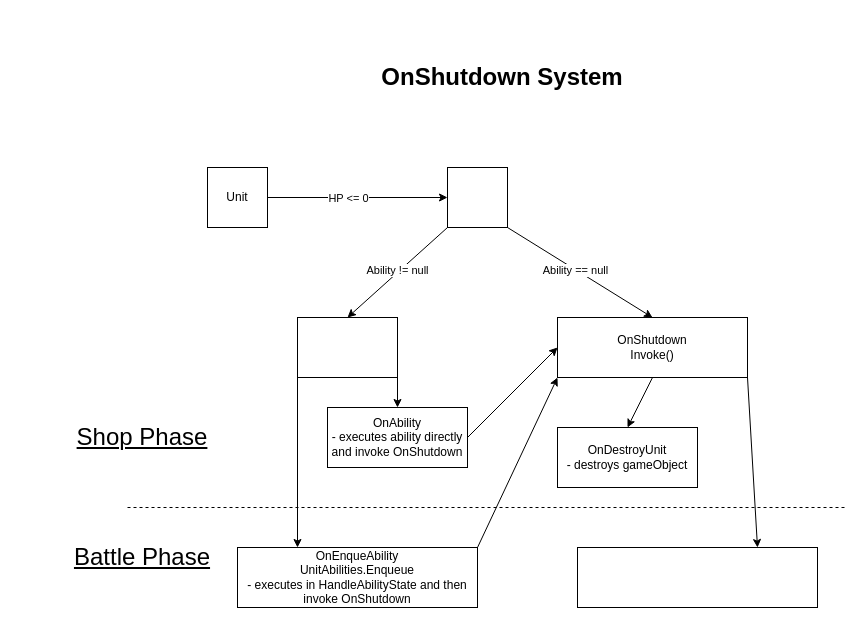
Some shapes in this 866 by 634 pixel diagram are drawn without their labels. The centre of each missing label's shape, as x and y in pixels:
"OnEnqueueShutdown ShutdownUnits.Enqueue - hides units in ShutdownState" goes at (x=697, y=577).
"OnTriggerAbility Invoke()" goes at (x=347, y=347).
"Trigger Shutdown" goes at (x=477, y=197).
